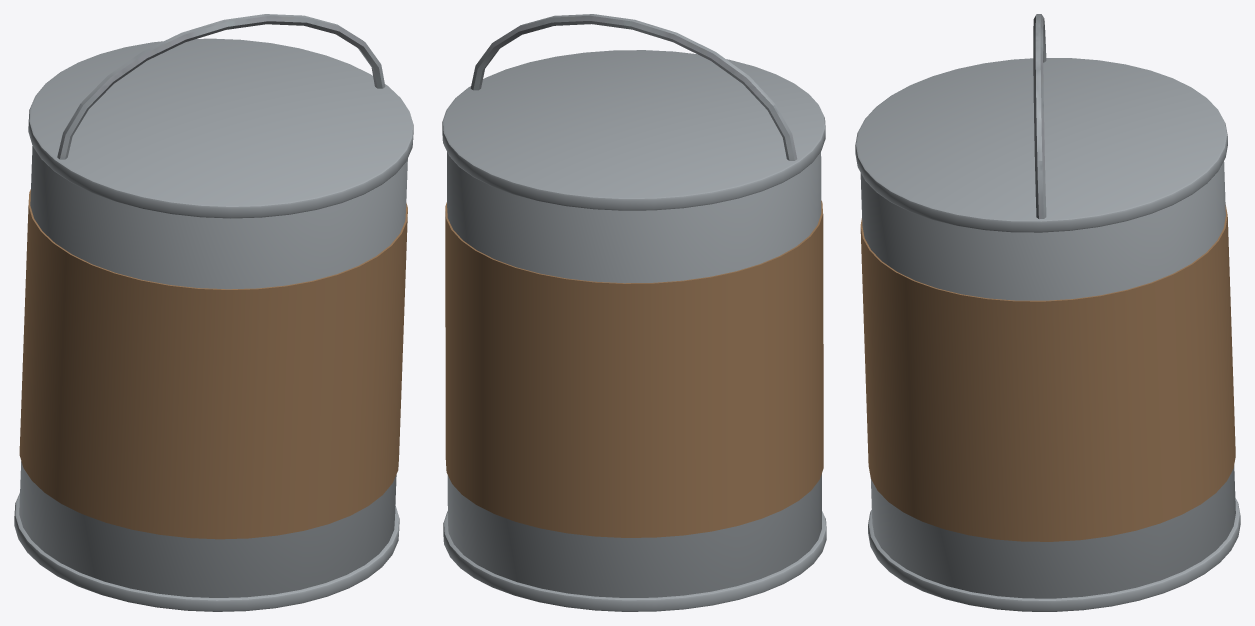
File: IMP-LIQ-003_anim.glb
3 renders of one model, left to right at view 1: azimuth 30°, elevation 25°; view 2: azimuth 150°, elevation 25°; view 3: azimuth 270°, elevation 25°, orthographic. The views are drawn at different scales.
Visible parts, largest first — view 1: IMP-LIQ-003_anim0; view 2: IMP-LIQ-003_anim0; view 3: IMP-LIQ-003_anim0.
Boxes of the visible parts, bbox=[...] form: IMP-LIQ-003_anim0: bbox=[14, 14, 413, 611]; IMP-LIQ-003_anim0: bbox=[442, 14, 826, 611]; IMP-LIQ-003_anim0: bbox=[855, 14, 1240, 611].
Size of the model in its own units: 0.1678 by 0.2427 by 0.1696.
Materials: 3 (1 with a texture image).
